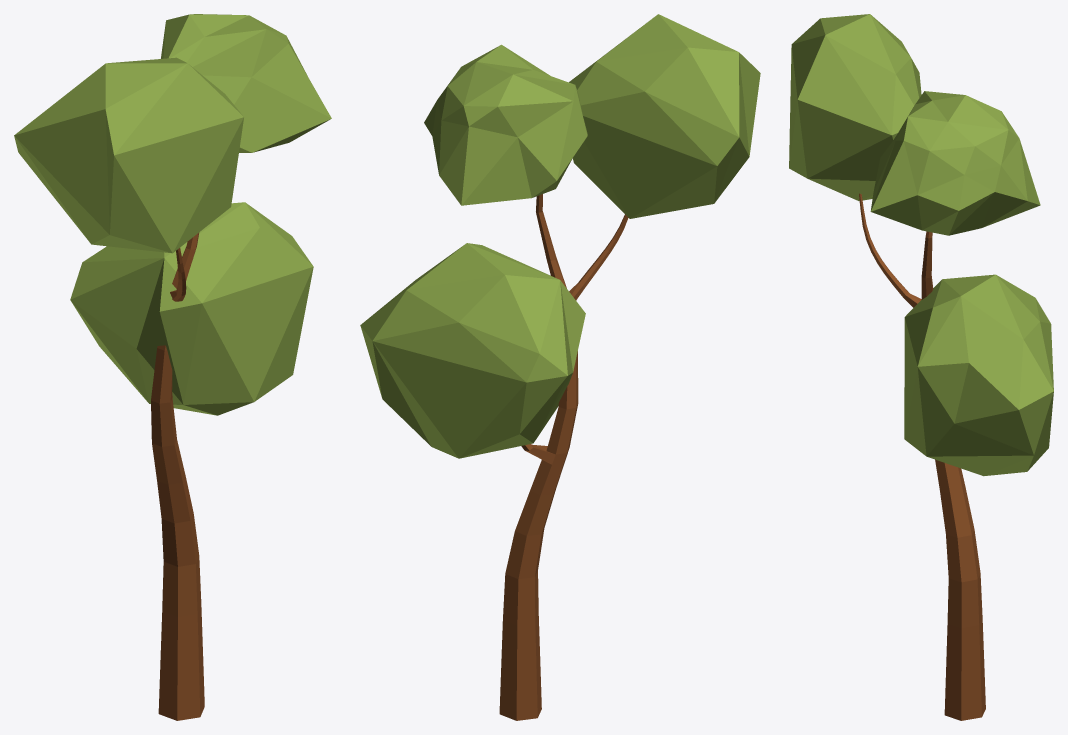
Rendered from Drzewo5.fbx.
3 views of the same model, side by side, from view 1: azimuth 30°, elevation 25°; view 2: azimuth 150°, elevation 25°; view 3: azimuth 270°, elevation 25° (orthographic). The views are drawn at different scales.
Parts seen in each view (by area): view 1: Cylinder.006; view 2: Cylinder.006; view 3: Cylinder.006.
Part boxes in pixels (x1=…): Cylinder.006: x1=14, y1=14, x2=331, y2=720; Cylinder.006: x1=360, y1=14, x2=760, y2=720; Cylinder.006: x1=789, y1=14, x2=1053, y2=720.
Size of the model in its own units: 969 by 1921 by 714.
